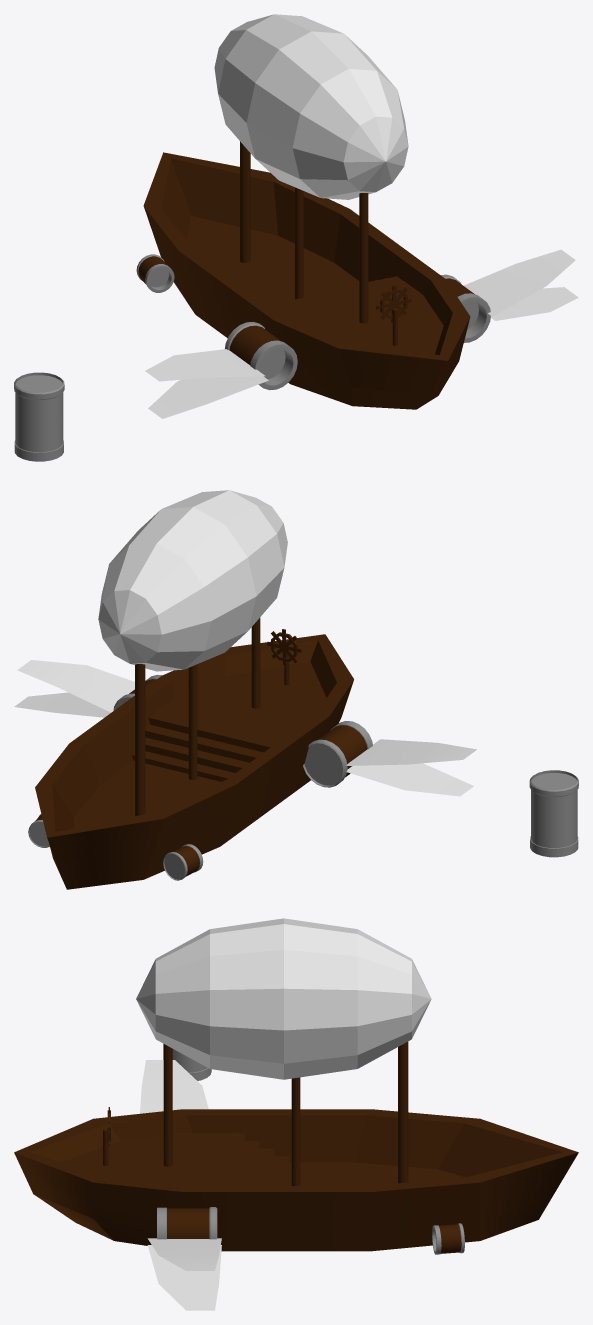
The model's file is shipcolour.fbx.
3 views of the same model, one above another, from view 1: azimuth 30°, elevation 25°; view 2: azimuth 150°, elevation 25°; view 3: azimuth 270°, elevation 25° (orthographic). The views are drawn at different scales.
Parts seen in each view (by area): view 1: shipbase, shipballoon, shipfloor2, shipfloor1, headlight5, wing2, headlight1, wing1, wing, wing3, headlight3, balloonpillar2 (+4 smaller); view 2: shipbase, shipballoon, shipfloor1, shipsteps, shipfloor2, headlight5, wing2, headlight1, wing1, wing, balloonpillar3, wing3 (+3 smaller); view 3: shipbase, shipballoon, shipfloor1, shipfloor2, wing3, shipsteps, wing, headlight3, wing2, balloonpillar3, balloonpillar2, balloonpillar1 (+2 smaller).
Part boxes in pixels (left/top/right/bottom): shipbase: left=143, top=152, right=470, bottom=409; shipballoon: left=214, top=14, right=408, bottom=199; shipfloor2: left=187, top=216, right=359, bottom=305; shipfloor1: left=278, top=281, right=443, bottom=354; headlight5: left=14, top=372, right=64, bottom=461; wing2: left=463, top=249, right=575, bottom=316; headlight1: left=225, top=322, right=297, bottom=390; wing1: left=148, top=376, right=268, bottom=418; wing: left=145, top=349, right=265, bottom=381; wing3: left=491, top=287, right=578, bottom=320; headlight3: left=440, top=274, right=490, bottom=342; balloonpillar2: left=359, top=193, right=368, bottom=323; shipbase: left=35, top=634, right=353, bottom=889; shipballoon: left=98, top=490, right=287, bottom=671; shipfloor1: left=155, top=661, right=326, bottom=742; shipsteps: left=132, top=712, right=276, bottom=781; shipfloor2: left=74, top=760, right=220, bottom=828; headlight5: left=529, top=770, right=578, bottom=857; wing2: left=17, top=660, right=134, bottom=712; headlight1: left=303, top=721, right=372, bottom=787; wing1: left=346, top=763, right=473, bottom=796; wing: left=346, top=739, right=476, bottom=765; balloonpillar3: left=135, top=664, right=145, bottom=816; wing3: left=14, top=692, right=110, bottom=717; shipbase: left=14, top=1109, right=578, bottom=1251; shipballoon: left=136, top=918, right=431, bottom=1079; shipfloor1: left=61, top=1133, right=230, bottom=1185; shipfloor2: left=289, top=1162, right=465, bottom=1185; wing3: left=147, top=1245, right=221, bottom=1310; shipsteps: left=231, top=1133, right=289, bottom=1185; wing: left=140, top=1060, right=208, bottom=1113; headlight3: left=157, top=1207, right=217, bottom=1239; wing2: left=147, top=1238, right=221, bottom=1270; balloonpillar3: left=398, top=1041, right=408, bottom=1183; balloonpillar2: left=163, top=1044, right=172, bottom=1166; balloonpillar1: left=291, top=1077, right=300, bottom=1185.
Bounding box in the file's own units: 86.81 × 48.44 × 76.34.
